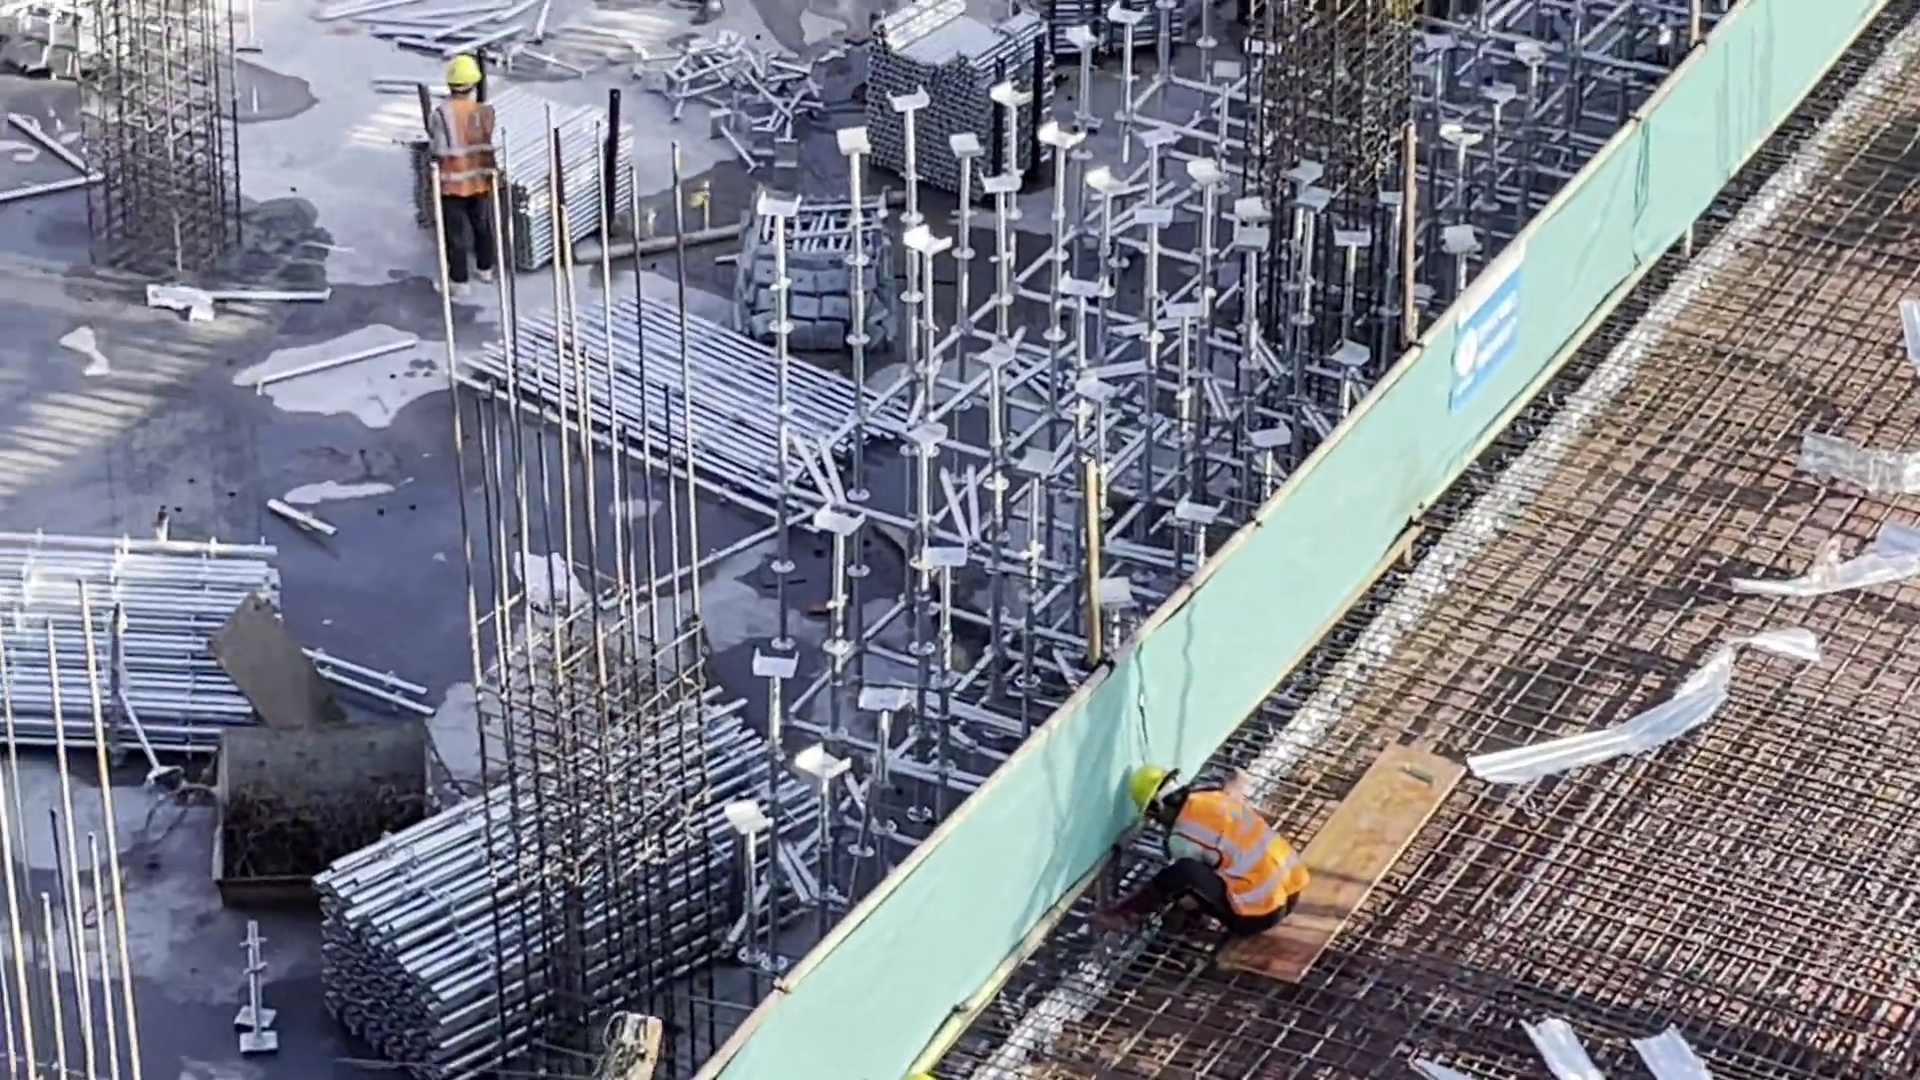helmet: (1117, 763, 1167, 797), (448, 60, 487, 95)
person: (1124, 763, 1321, 952), (424, 53, 496, 279)
scaffold: (360, 741, 744, 1032), (508, 314, 820, 506), (1, 541, 272, 720), (429, 91, 623, 245), (877, 20, 1036, 194), (1036, 1, 1165, 44)
slogan: (1455, 278, 1533, 384)
vest: (1183, 803, 1304, 920), (436, 111, 511, 197)
